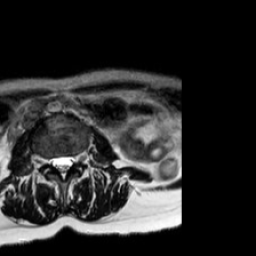CCS_normal: (58, 145, 66, 185)
LFS_normal: (75, 143, 83, 170)
LLS_normal: (66, 144, 75, 173)
RFS_stenosis: (41, 146, 49, 171)
RLS_normal: (49, 147, 58, 174)
